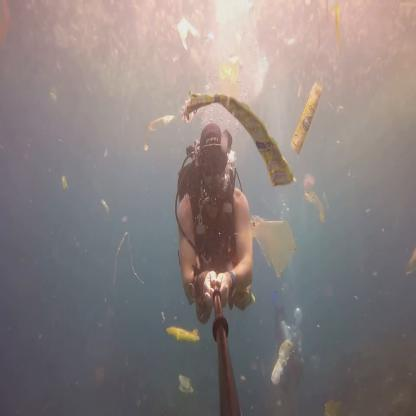Rác: (182, 82, 285, 116), (252, 214, 297, 280), (294, 76, 326, 168), (113, 228, 145, 288), (166, 312, 201, 349), (144, 104, 174, 146), (303, 186, 333, 221), (176, 18, 202, 48)
